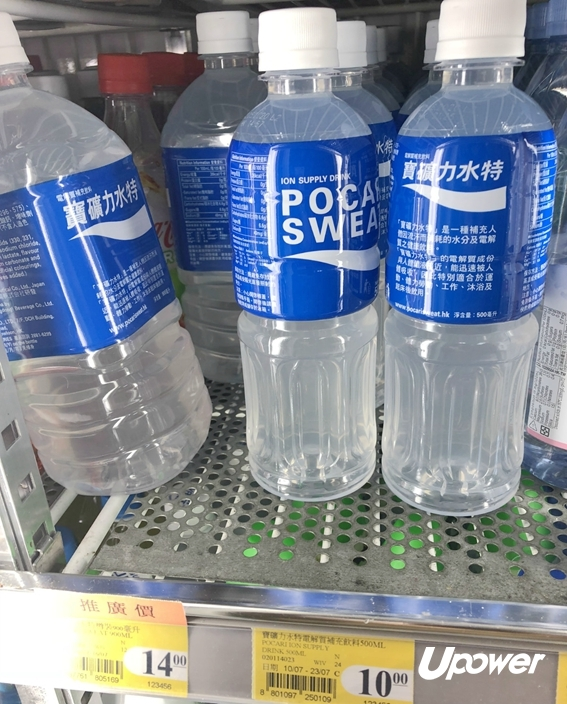POCARI SWEAT: (387, 1, 556, 510), (230, 1, 382, 500)
